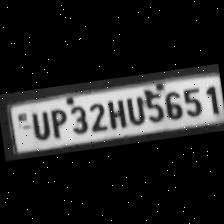1: (200, 81, 224, 115)
2: (85, 98, 108, 132)
3: (65, 101, 88, 135)
5: (178, 82, 204, 118), (141, 88, 164, 124)
6: (160, 86, 182, 121)
H: (104, 94, 126, 128)
P: (46, 105, 68, 138)
U: (27, 106, 51, 140), (124, 92, 146, 126)
